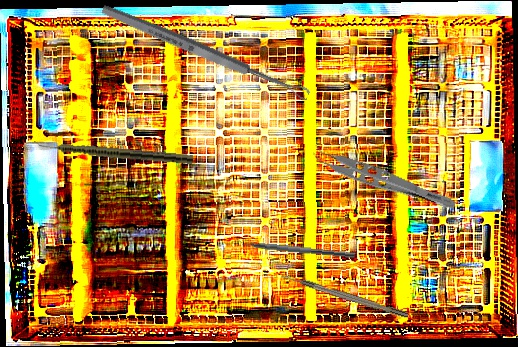Chopper: (231, 233, 357, 259)
Handpiece: (32, 139, 194, 165)
Hook Surgical: (280, 271, 409, 320)
Surgical Spoon: (99, 2, 312, 103)
Tissue Forceps: (308, 141, 461, 213)
